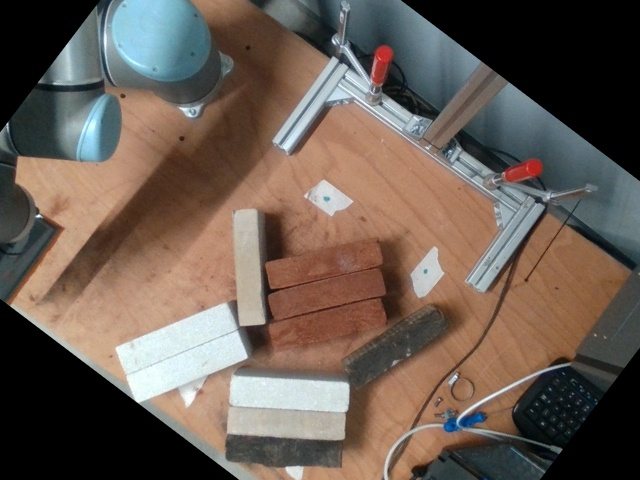brick-side: (348, 310, 446, 385), (117, 307, 231, 371), (130, 335, 244, 399), (270, 301, 385, 350), (267, 240, 382, 288), (269, 271, 384, 319), (231, 380, 345, 410), (231, 409, 345, 439), (233, 210, 261, 323), (227, 438, 340, 464)
